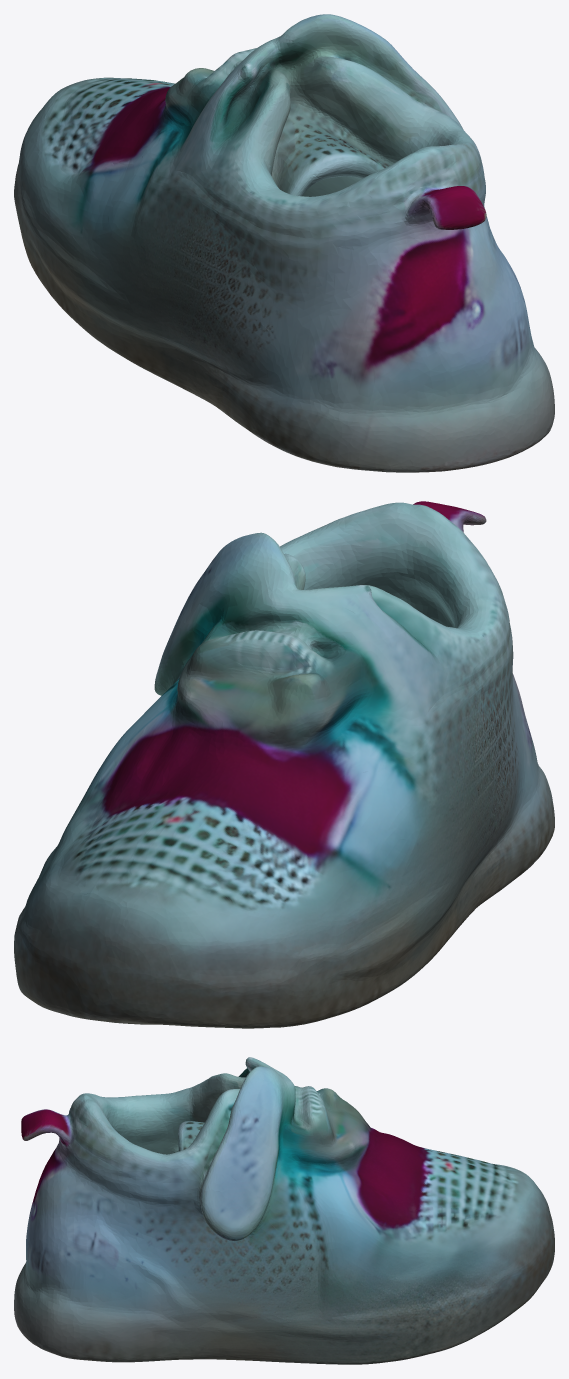
Rendered from shoes_1.obj.
3 renders of one model, top to bottom at view 1: azimuth 30°, elevation 25°; view 2: azimuth 150°, elevation 25°; view 3: azimuth 270°, elevation 25°, orthographic. The views are drawn at different scales.
Bounding box in the file's own units: 0.1374 × 0.1477 × 0.28.
1 material, 1 textured.
